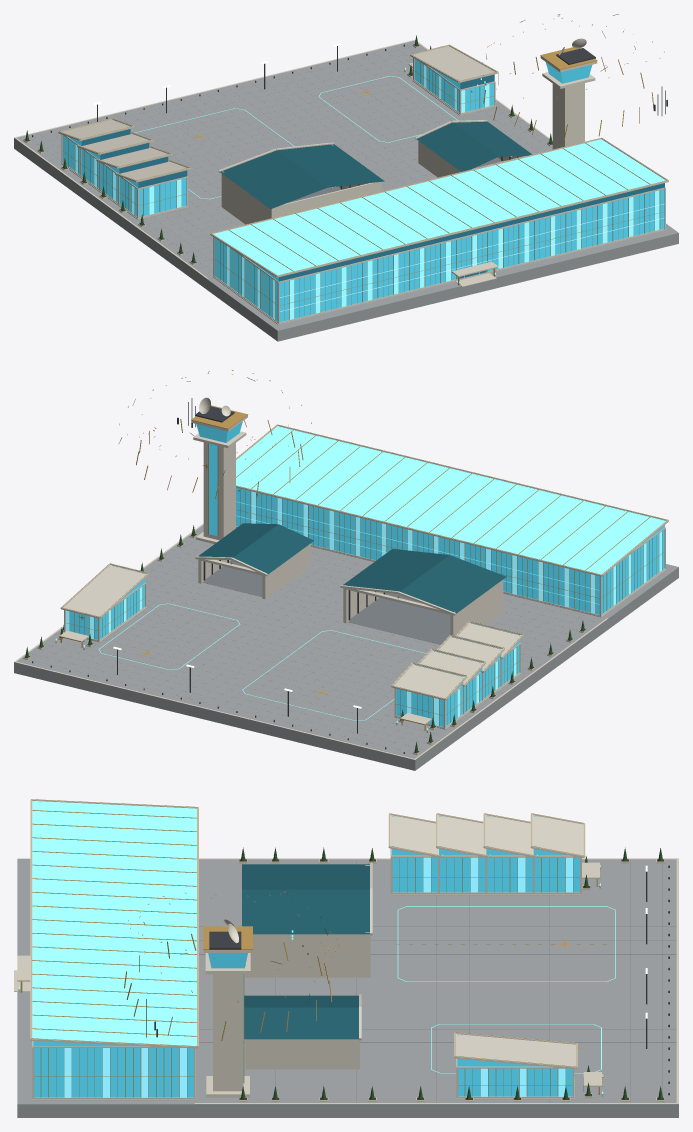
File: Horizon.glb
3 renders of one model, top to bottom at view 1: azimuth 30°, elevation 25°; view 2: azimuth 150°, elevation 25°; view 3: azimuth 270°, elevation 25°, orthographic. The views are drawn at different scales.
Parts seen in each view (by area): view 1: Paving, Glass Highlight, Ivory, Glass, Gold, Teal, Glass Dark, Metal, Warm Light, Light; view 2: Paving, Glass Highlight, Ivory, Glass, Gold, Teal, Joint, Light, Metal, Leaves; view 3: Paving, Glass Highlight, Ivory, Glass, Teal, Gold, Joint, Metal, Light, Leaves.
Boxes of the visible parts, x1,y1,x2,y2 form: Paving: (14,41,678,341); Glass Highlight: (75,64,665,319); Ivory: (14,38,668,324); Glass: (63,59,664,322); Gold: (59,14,668,320); Teal: (220,121,531,209); Glass Dark: (81,74,664,281); Metal: (32,14,667,189); Warm Light: (93,43,663,311); Light: (134,67,495,283); Paving: (14,525,678,770); Glass Highlight: (65,426,666,725); Ivory: (14,397,668,759); Glass: (70,421,664,726); Gold: (56,370,667,731); Teal: (198,523,506,613); Joint: (31,542,577,752); Light: (55,475,599,730); Metal: (32,377,404,753); Leaves: (25,525,584,752); Paving: (17,858,678,1117); Glass Highlight: (32,801,572,1097); Ivory: (14,799,678,1104); Glass: (33,801,579,1097); Teal: (242,864,369,1039); Gold: (18,799,606,1097); Joint: (199,860,676,1102); Metal: (143,865,669,1095); Light: (18,865,615,1094); Leaves: (240,847,662,1099).
Bounding box in the file's own units: 623 × 191 × 618.
